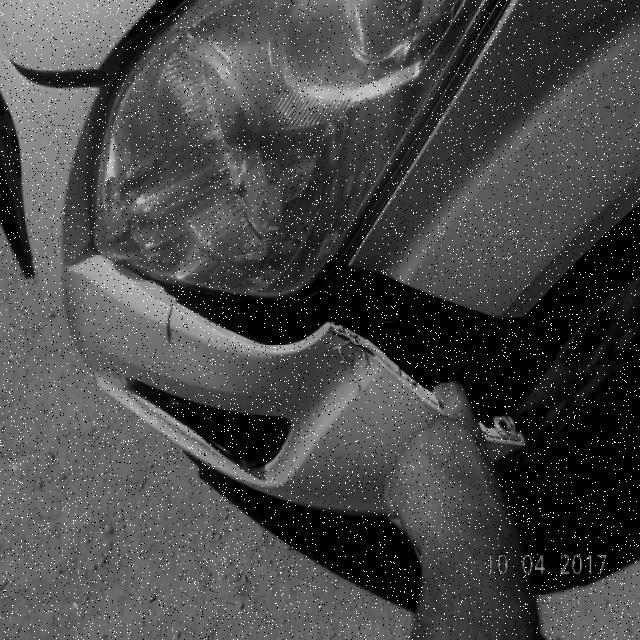car damage: (92, 260, 529, 444), (159, 298, 178, 356)
